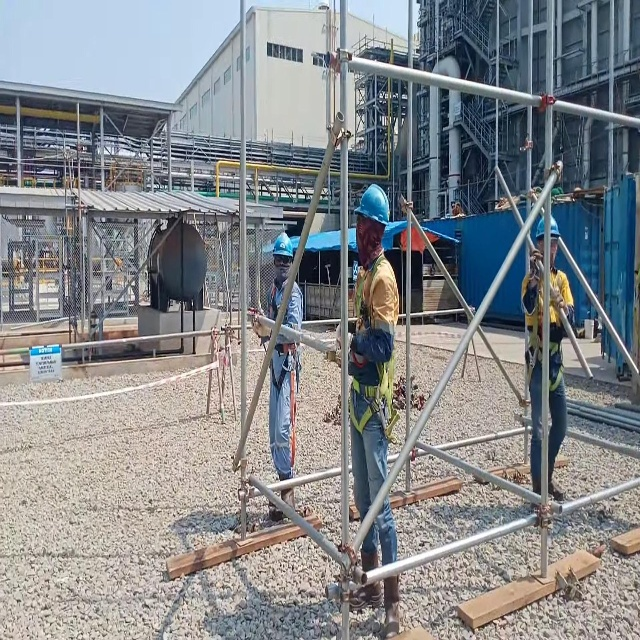Arnes_seguridad: (345, 249, 397, 449), (264, 275, 301, 468), (523, 264, 565, 395)
